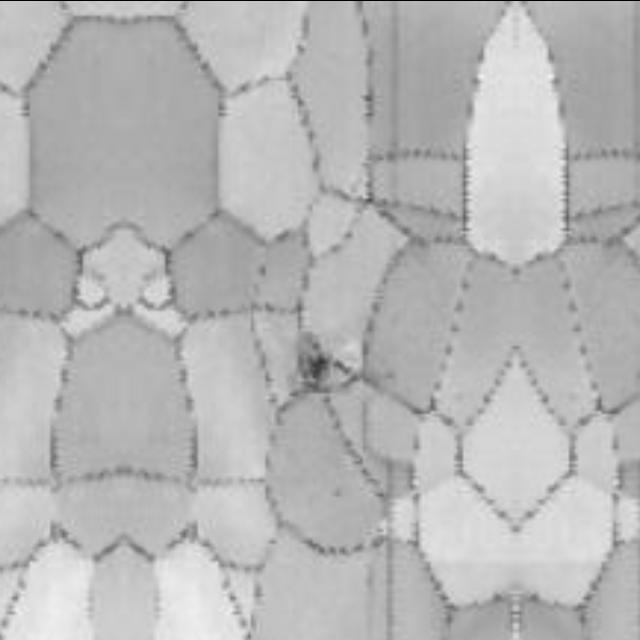good_void: (288, 331, 342, 406)
